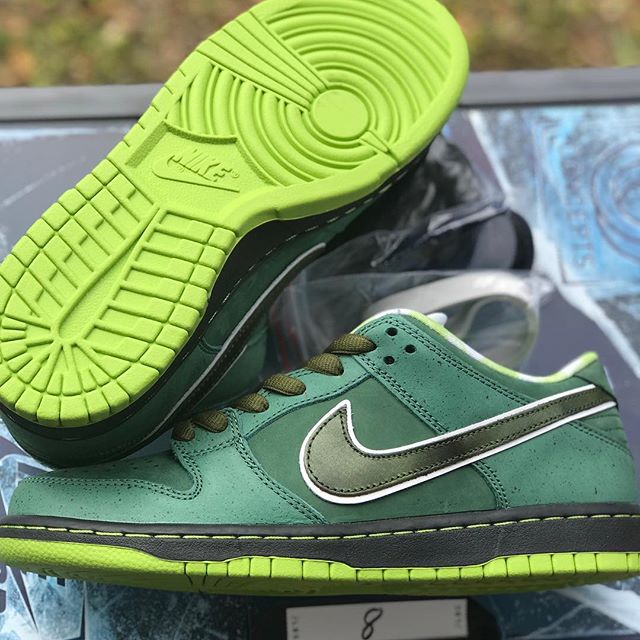Nike SB Dunk Green Lobster: (3, 300, 640, 592)
